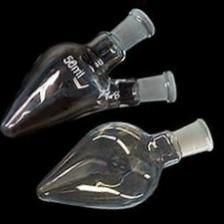Pear shaped flask: (4, 9, 216, 215)
